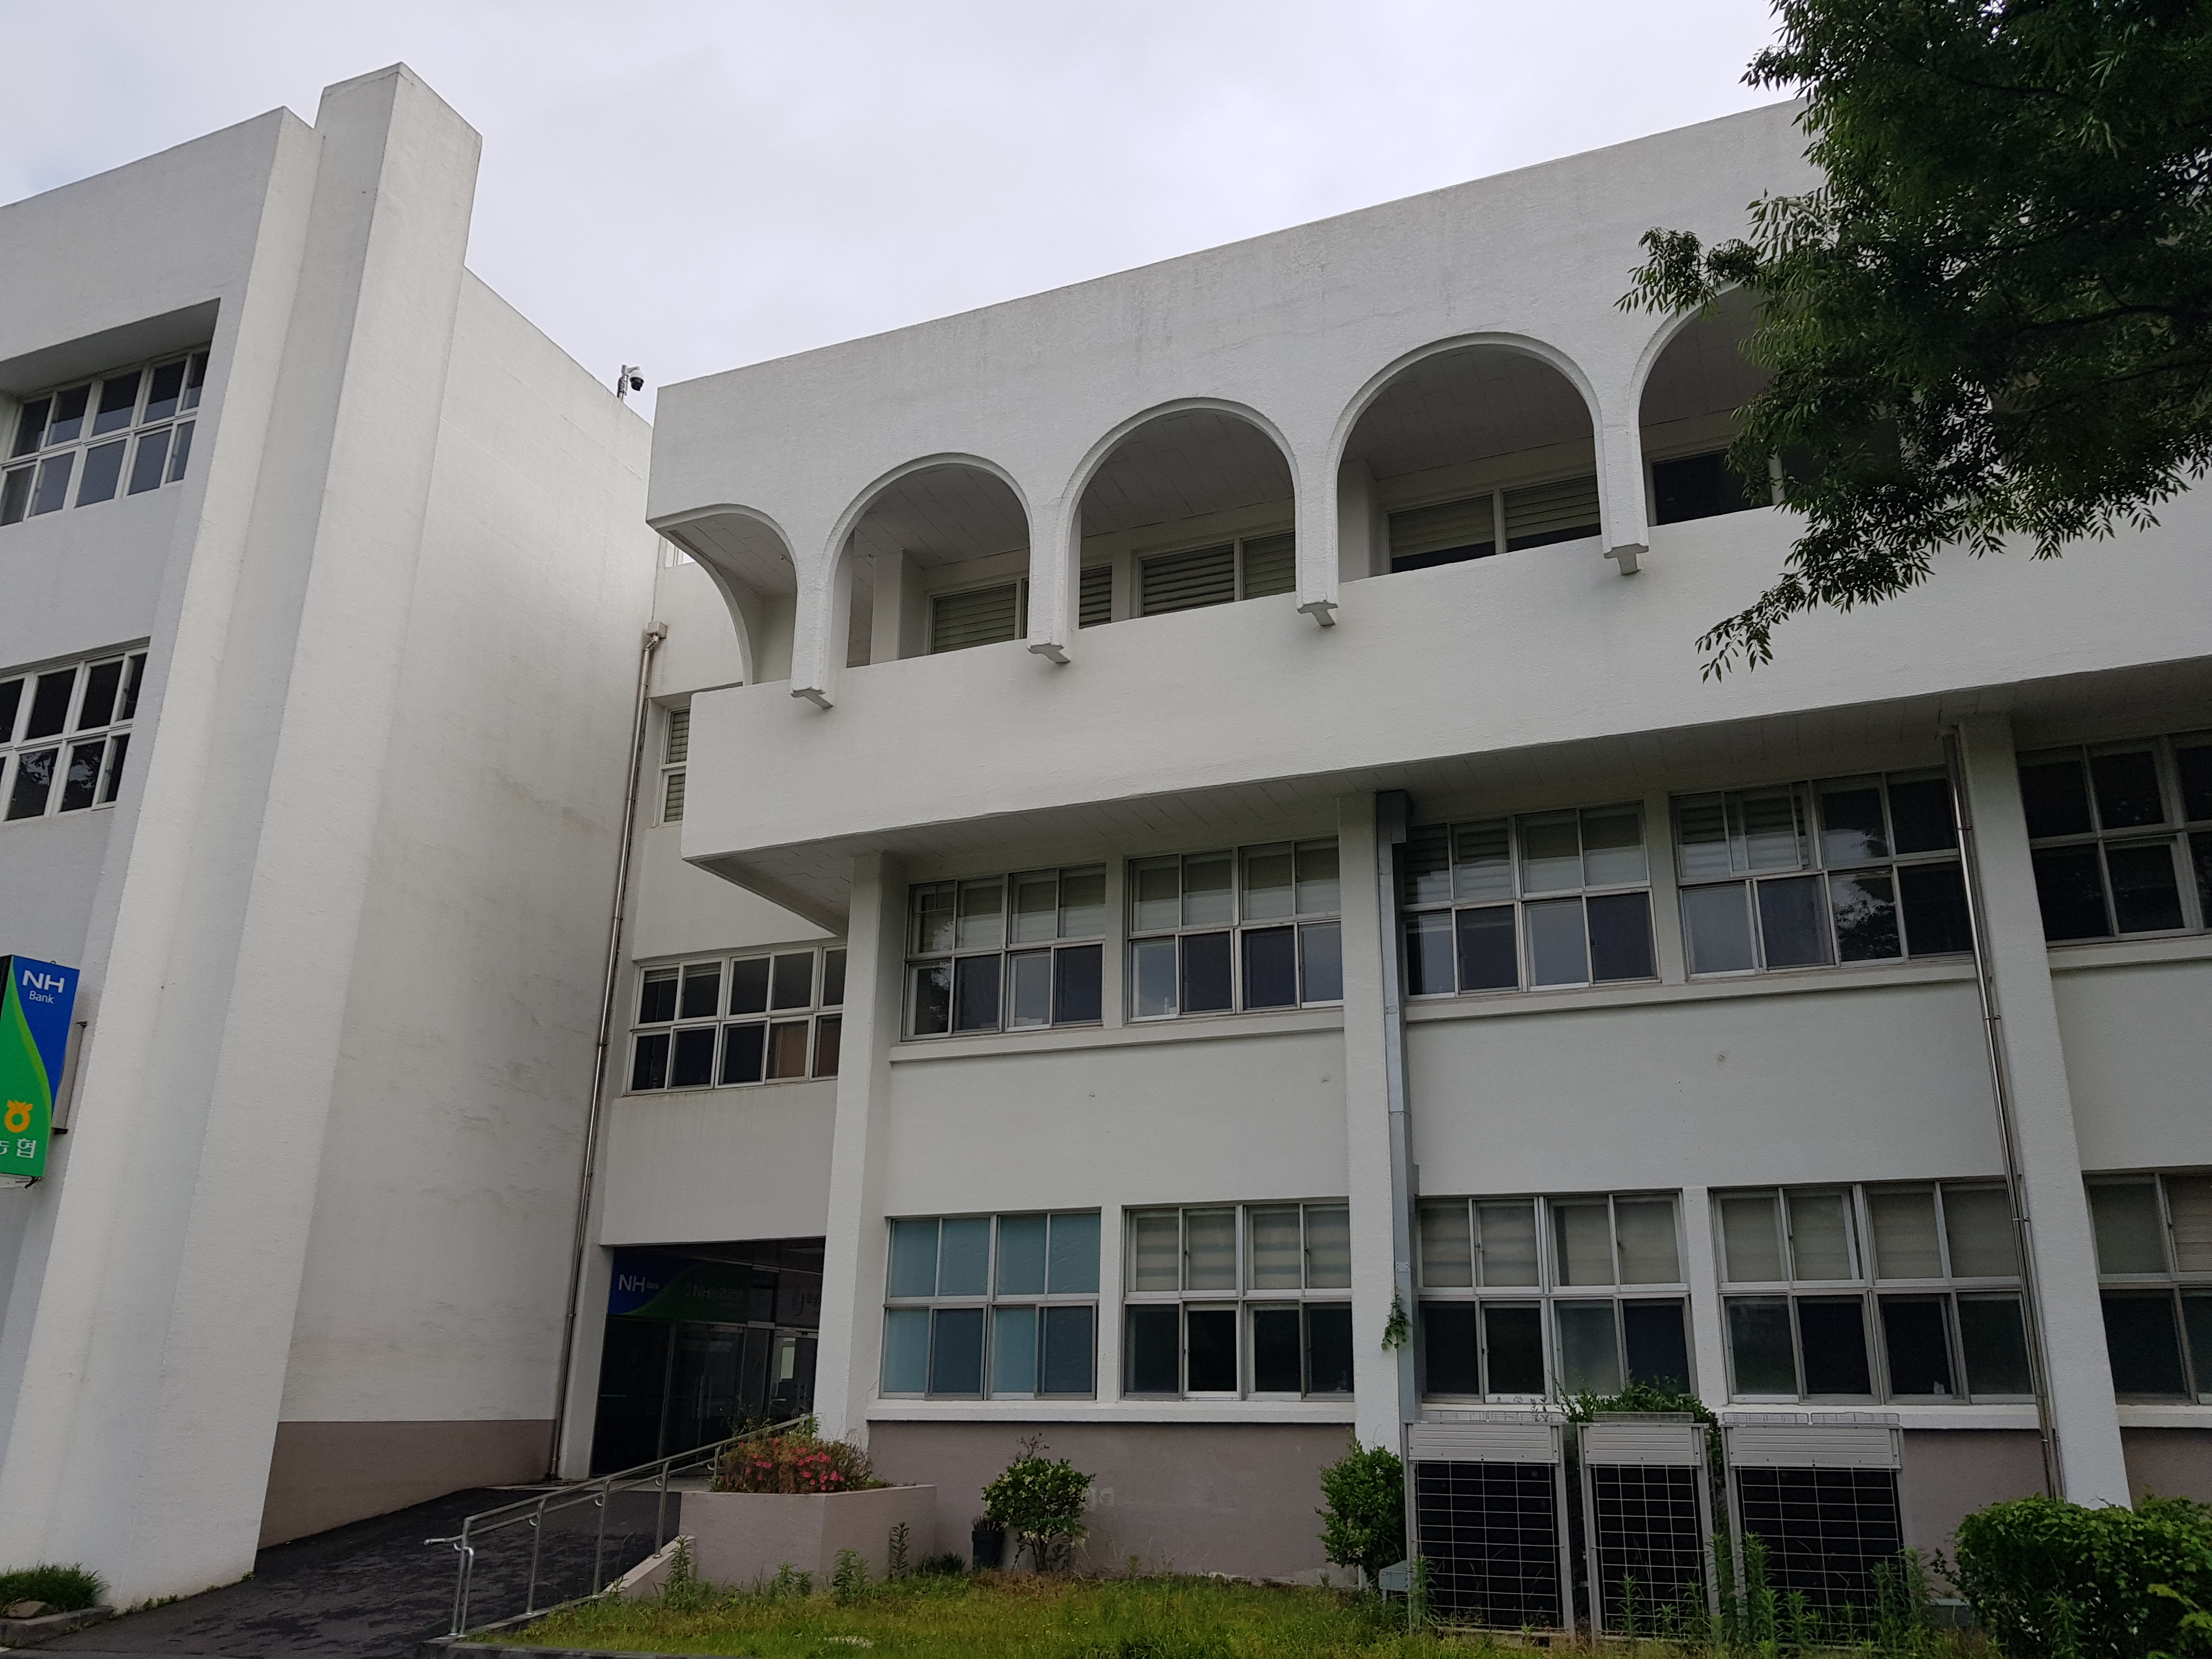Main Building of University: (30, 73, 2170, 1532), (803, 324, 1625, 631)
